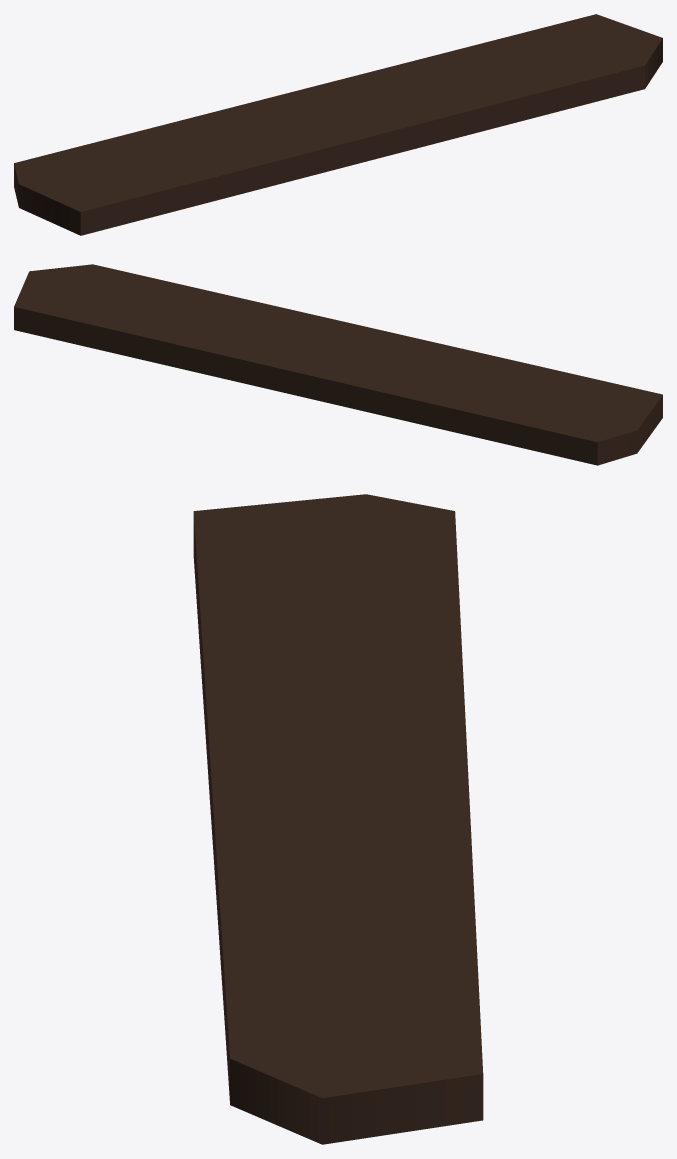
File: envi_woodPlank1.fbx
3 views of the same model, one above another, from view 1: azimuth 30°, elevation 25°; view 2: azimuth 150°, elevation 25°; view 3: azimuth 270°, elevation 25° (orthographic). The views are drawn at different scales.
Visible parts, largest first — view 1: pCube43; view 2: pCube43; view 3: pCube43.
Part boxes in pixels (left/top/right/bottom): pCube43: left=14, top=14, right=662, bottom=235; pCube43: left=14, top=264, right=662, bottom=465; pCube43: left=193, top=494, right=483, bottom=1144.
Size of the model in its own units: 3.07 by 0.1103 by 0.6217.
